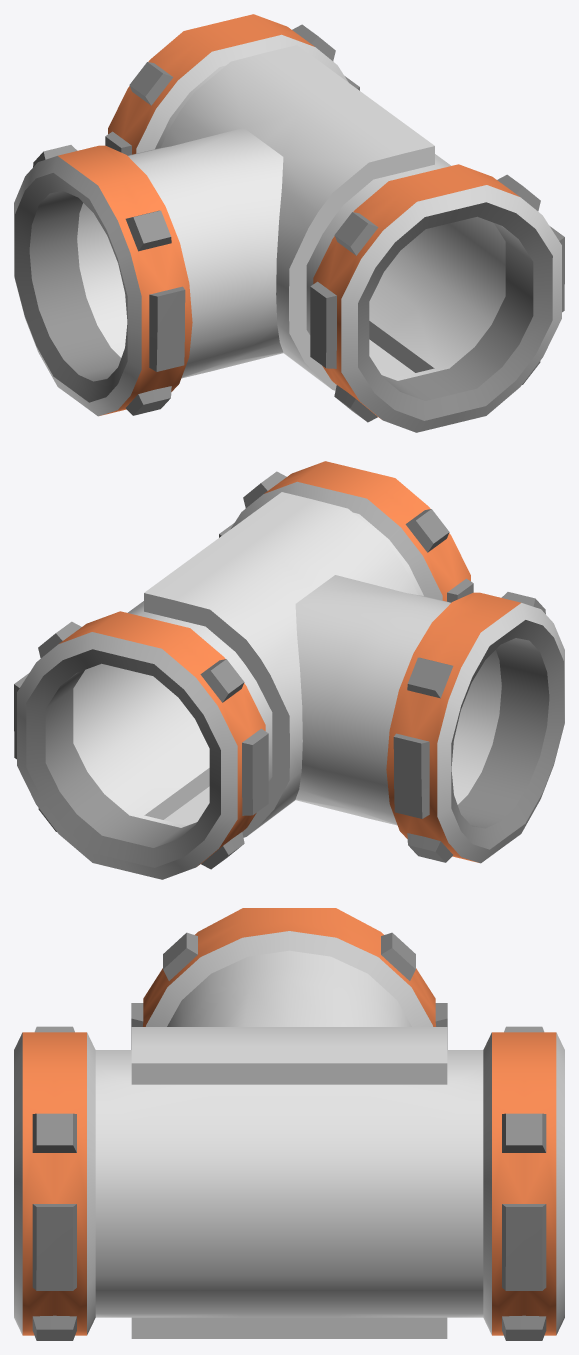
The model's file is 3WayConnect.fbx.
The picture shows the model from 3 angles, top to bottom: view 1: azimuth 30°, elevation 25°; view 2: azimuth 150°, elevation 25°; view 3: azimuth 270°, elevation 25°; orthographic projection. The views are drawn at different scales.
Parts seen in each view (by area): view 1: Tunnel3Way; view 2: Tunnel3Way; view 3: Tunnel3Way.
Part boxes in pixels (left/top/right/bottom): Tunnel3Way: left=14, top=14, right=564, bottom=432; Tunnel3Way: left=14, top=461, right=564, bottom=879; Tunnel3Way: left=14, top=908, right=564, bottom=1340.
Size of the model in its own units: 465 by 280 by 507.
